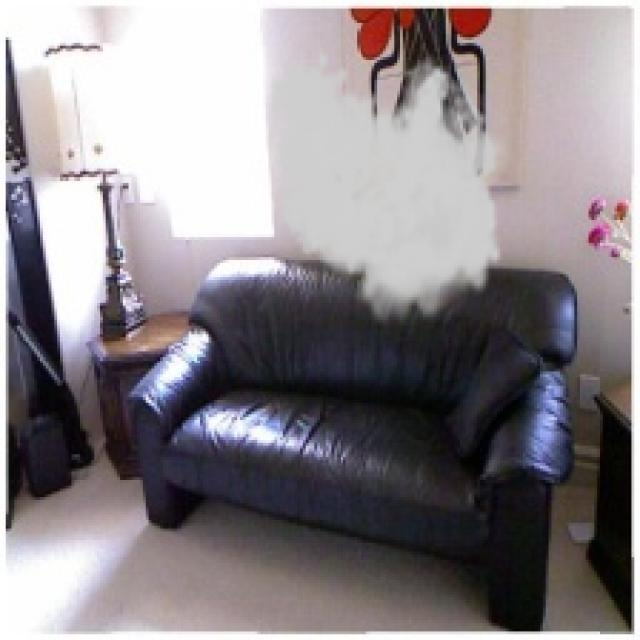smoke: (266, 48, 517, 332)
